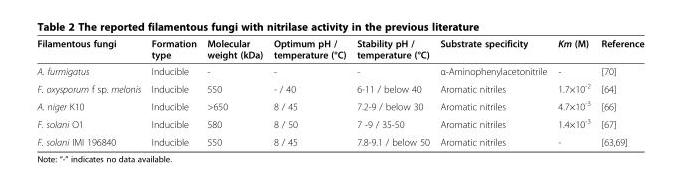table: (36, 37, 643, 147)
table column: (434, 37, 551, 147), (36, 37, 145, 147), (350, 37, 434, 147), (267, 37, 350, 147), (201, 37, 267, 147), (145, 37, 201, 147), (595, 37, 643, 147), (551, 37, 595, 147)
table column header: (36, 37, 643, 62)
table row: (36, 37, 643, 62), (36, 96, 643, 114), (36, 114, 643, 132), (36, 62, 643, 79), (36, 79, 643, 96), (36, 132, 643, 147)
